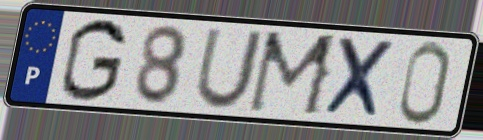0: (396, 38, 453, 128)
8: (132, 22, 191, 108)
G: (57, 16, 130, 105)
M: (243, 29, 343, 120)
U: (191, 26, 268, 113)
X: (320, 35, 399, 123)
